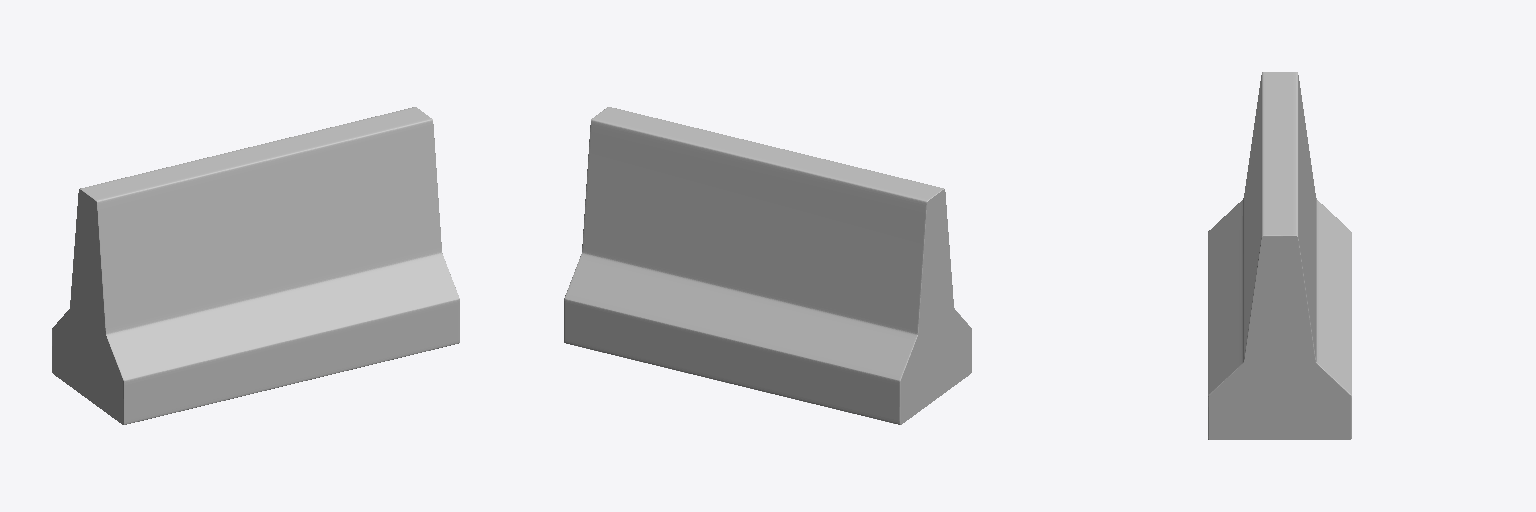
Rendered from Roadblock.obj.
3 renders of one model, left to right at view 1: azimuth 30°, elevation 25°; view 2: azimuth 150°, elevation 25°; view 3: azimuth 270°, elevation 25°, orthographic.
Visible parts, largest first — view 1: lp_Cube.004; view 2: lp_Cube.004; view 3: lp_Cube.004.
Part boxes in pixels (x1,y1,x2,y2): lp_Cube.004: (52, 107, 459, 424); lp_Cube.004: (564, 107, 971, 424); lp_Cube.004: (1208, 72, 1351, 439).
Size of the model in its own units: 4.43 by 2.57 by 1.64.